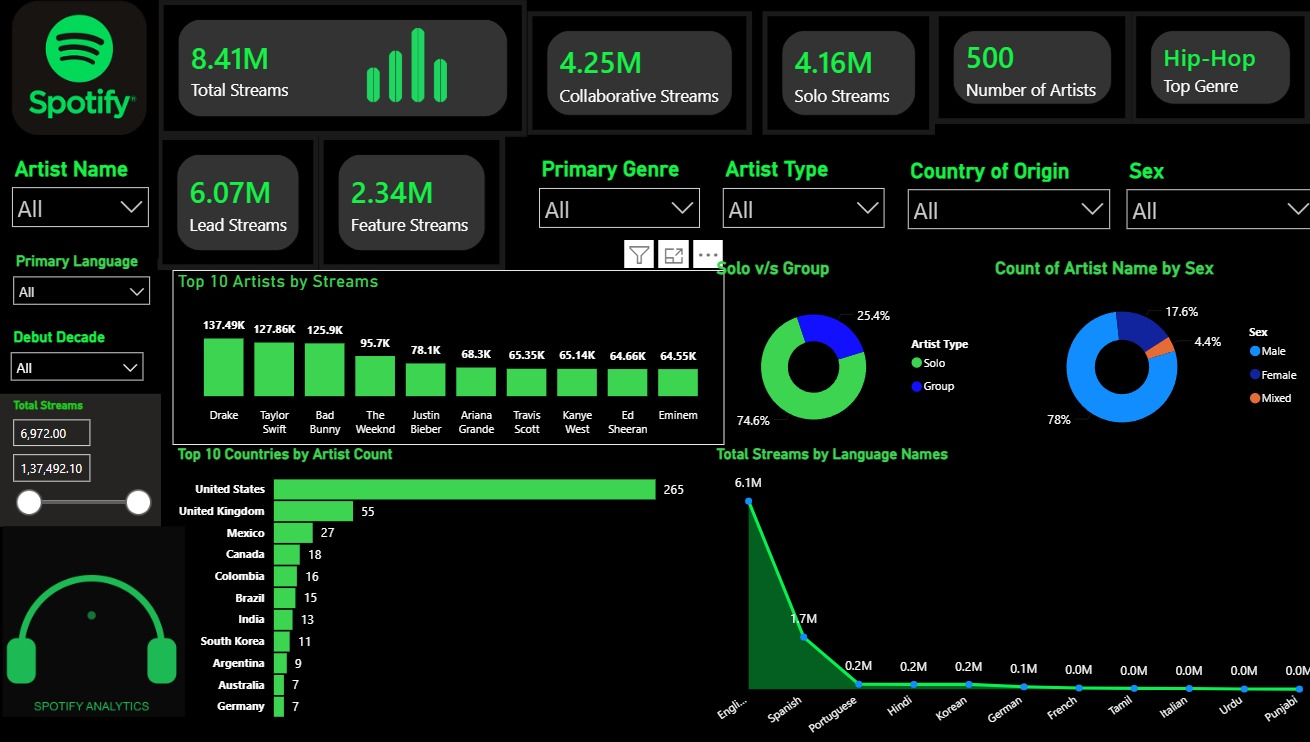

What the dashboard file says about the page in this screenshot:
{"tool":"powerbi","page":{"name":"Page 1","canvas":[1280,720],"ordinal":0},"visuals":[{"type":"image","box":[0,0,152.3,130.4],"z":0},{"type":"cardVisual","fields":{"Data":["Sum(Most Streamed Artists on Spotify (17_07_2026) V1 1.Collaborative Streams (in millions))"]},"box":[509.1,11,216.8,119.4],"z":1000},{"type":"cardVisual","fields":{"Data":["Sum(Most Streamed Artists on Spotify (17_07_2026) V1 1.Lead Streams (in millions))"]},"box":[152.3,130.4,155.1,130.4],"z":2000},{"type":"cardVisual","fields":{"Data":["Sum(Most Streamed Artists on Spotify (17_07_2026) V1 1.Solo Streams (in millions))"]},"box":[735.5,11,166,119.4],"z":3000},{"type":"cardVisual","fields":{"Data":["Count(Most Streamed Artists on Spotify (17_07_2026) V1 1.Artist Name)"]},"box":[901.5,11,190.7,108.4],"z":4000},{"type":"cardVisual","fields":{"Data":["Most Streamed Artists on Spotify (17_07_2026) V1 1.Top Genre"]},"box":[1092.3,11,172.9,108.4],"z":5000},{"type":"slicer","fields":{"Values":["Most Streamed Artists on Spotify (17_07_2026) V1 1.Artist Name"]},"box":[1.4,130.4,152.3,119.4],"z":6000},{"type":"cardVisual","fields":{"Data":["Sum(Most Streamed Artists on Spotify (17_07_2026) V1 1.Feature Streams (in millions))"]},"box":[307.4,130.4,179.8,130.4],"z":7000},{"type":"slicer","fields":{"Values":["Most Streamed Artists on Spotify (17_07_2026) V1 1.Primary Genre"]},"box":[509.1,130.4,177,118],"z":8000},{"type":"slicer","fields":{"Values":["Most Streamed Artists on Spotify (17_07_2026) V1 1. Artist Type"]},"box":[686.1,130.4,178.4,118],"z":9000},{"type":"slicer","fields":{"Values":["Most Streamed Artists on Spotify (17_07_2026) V1 1.Country of Origin"]},"box":[864.5,131.7,216.8,118],"z":10000},{"type":"slicer","fields":{"Values":["Most Streamed Artists on Spotify (17_07_2026) V1 1.Sex"]},"box":[1075.8,131.7,204.5,116.6],"z":11000},{"type":"slicer","fields":{"Values":["Most Streamed Artists on Spotify (17_07_2026) V1 1.Debut Decade"]},"box":[0,311.5,148.2,68.6],"z":12000},{"type":"slicer","fields":{"Values":["Most Streamed Artists on Spotify (17_07_2026) V1 1.Primary Language"]},"box":[2.7,234.6,152.3,76.8],"z":13000},{"type":"cardVisual","fields":{"Data":["Sum(Most Streamed Artists on Spotify (17_07_2026) V1 1.Total Streams (in millions))"]},"box":[153.7,0,355.4,131.7],"z":14000},{"type":"image","box":[288.2,11,186.6,108.4],"z":15000},{"type":"clusteredColumnChart","title":"Top 10 Artists by Streams","fields":{"Category":["Most Streamed Artists on Spotify (17_07_2026) V1 1.Artist Name"],"Y":["Sum(Most Streamed Artists on Spotify (17_07_2026) V1 1.Total Streams (in millions))"]},"box":[166,260.7,532.4,168.8],"z":16000},{"type":"donutChart","title":"Solo v/s Group","fields":{"Category":["Most Streamed Artists on Spotify (17_07_2026) V1 1. Artist Type"],"Y":["CountNonNull(Most Streamed Artists on Spotify (17_07_2026) V1 1.Artist Name)"]},"box":[686.1,248.4,269,181.1],"z":17000},{"type":"clusteredBarChart","title":"Top 10 Countries by Artist Count","fields":{"Category":["Most Streamed Artists on Spotify (17_07_2026) V1 1.Country of Origin"],"Y":["CountNonNull(Most Streamed Artists on Spotify (17_07_2026) V1 1.Artist Name)"]},"box":[166,429.5,520.1,275.8],"z":18000},{"type":"areaChart","fields":{"Y":["Sum(Most Streamed Artists on Spotify (17_07_2026) V1 1.Total Streams (in millions))"],"Category":["Most Streamed Artists on Spotify (17_07_2026) V1 1.Primary Language"]},"box":[686.1,429.5,594.2,290.9],"z":19000},{"type":"pieChart","fields":{"Category":["Most Streamed Artists on Spotify (17_07_2026) V1 1.Sex"],"Y":["CountNonNull(Most Streamed Artists on Spotify (17_07_2026) V1 1.Artist Name)"]},"box":[955.1,248.4,310.1,181.1],"z":20000},{"type":"slicer","fields":{"Values":["Most Streamed Artists on Spotify (17_07_2026) V1 1.Total Streams (in millions)"]},"box":[0,380.1,155.1,127.6],"z":21000},{"type":"image","box":[2.7,507.7,175.6,183.9],"z":21001}]}

Visuals, with their boxes in screenshot pixels (x1, y1, x2, y2), scaled from the page's 1280x720 canvas onto the 1310x742 screenshot:
image: [0,0,156,134]
cardVisual - Sum(Most Streamed Artists on Spotify (17_07_2026) V1 1.Collaborative Streams (in millions)): [521,11,743,134]
cardVisual - Sum(Most Streamed Artists on Spotify (17_07_2026) V1 1.Lead Streams (in millions)): [156,134,315,269]
cardVisual - Sum(Most Streamed Artists on Spotify (17_07_2026) V1 1.Solo Streams (in millions)): [753,11,923,134]
cardVisual - Count(Most Streamed Artists on Spotify (17_07_2026) V1 1.Artist Name): [923,11,1118,123]
cardVisual - Most Streamed Artists on Spotify (17_07_2026) V1 1.Top Genre: [1118,11,1295,123]
slicer - Most Streamed Artists on Spotify (17_07_2026) V1 1.Artist Name: [1,134,157,257]
cardVisual - Sum(Most Streamed Artists on Spotify (17_07_2026) V1 1.Feature Streams (in millions)): [315,134,499,269]
slicer - Most Streamed Artists on Spotify (17_07_2026) V1 1.Primary Genre: [521,134,702,256]
slicer - Most Streamed Artists on Spotify (17_07_2026) V1 1. Artist Type: [702,134,885,256]
slicer - Most Streamed Artists on Spotify (17_07_2026) V1 1.Country of Origin: [885,136,1107,257]
slicer - Most Streamed Artists on Spotify (17_07_2026) V1 1.Sex: [1101,136,1309,256]
slicer - Most Streamed Artists on Spotify (17_07_2026) V1 1.Debut Decade: [0,321,152,392]
slicer - Most Streamed Artists on Spotify (17_07_2026) V1 1.Primary Language: [3,242,159,321]
cardVisual - Sum(Most Streamed Artists on Spotify (17_07_2026) V1 1.Total Streams (in millions)): [157,0,521,136]
image: [295,11,486,123]
"Top 10 Artists by Streams" clusteredColumnChart: [170,269,715,443]
"Solo v/s Group" donutChart: [702,256,977,443]
"Top 10 Countries by Artist Count" clusteredBarChart: [170,443,702,727]
areaChart - Sum(Most Streamed Artists on Spotify (17_07_2026) V1 1.Total Streams (in millions)) x Most Streamed Artists on Spotify (17_07_2026) V1 1.Primary Language: [702,443,1309,741]
pieChart - Most Streamed Artists on Spotify (17_07_2026) V1 1.Sex x CountNonNull(Most Streamed Artists on Spotify (17_07_2026) V1 1.Artist Name): [977,256,1295,443]
slicer - Most Streamed Artists on Spotify (17_07_2026) V1 1.Total Streams (in millions): [0,392,159,523]
image: [3,523,182,713]
